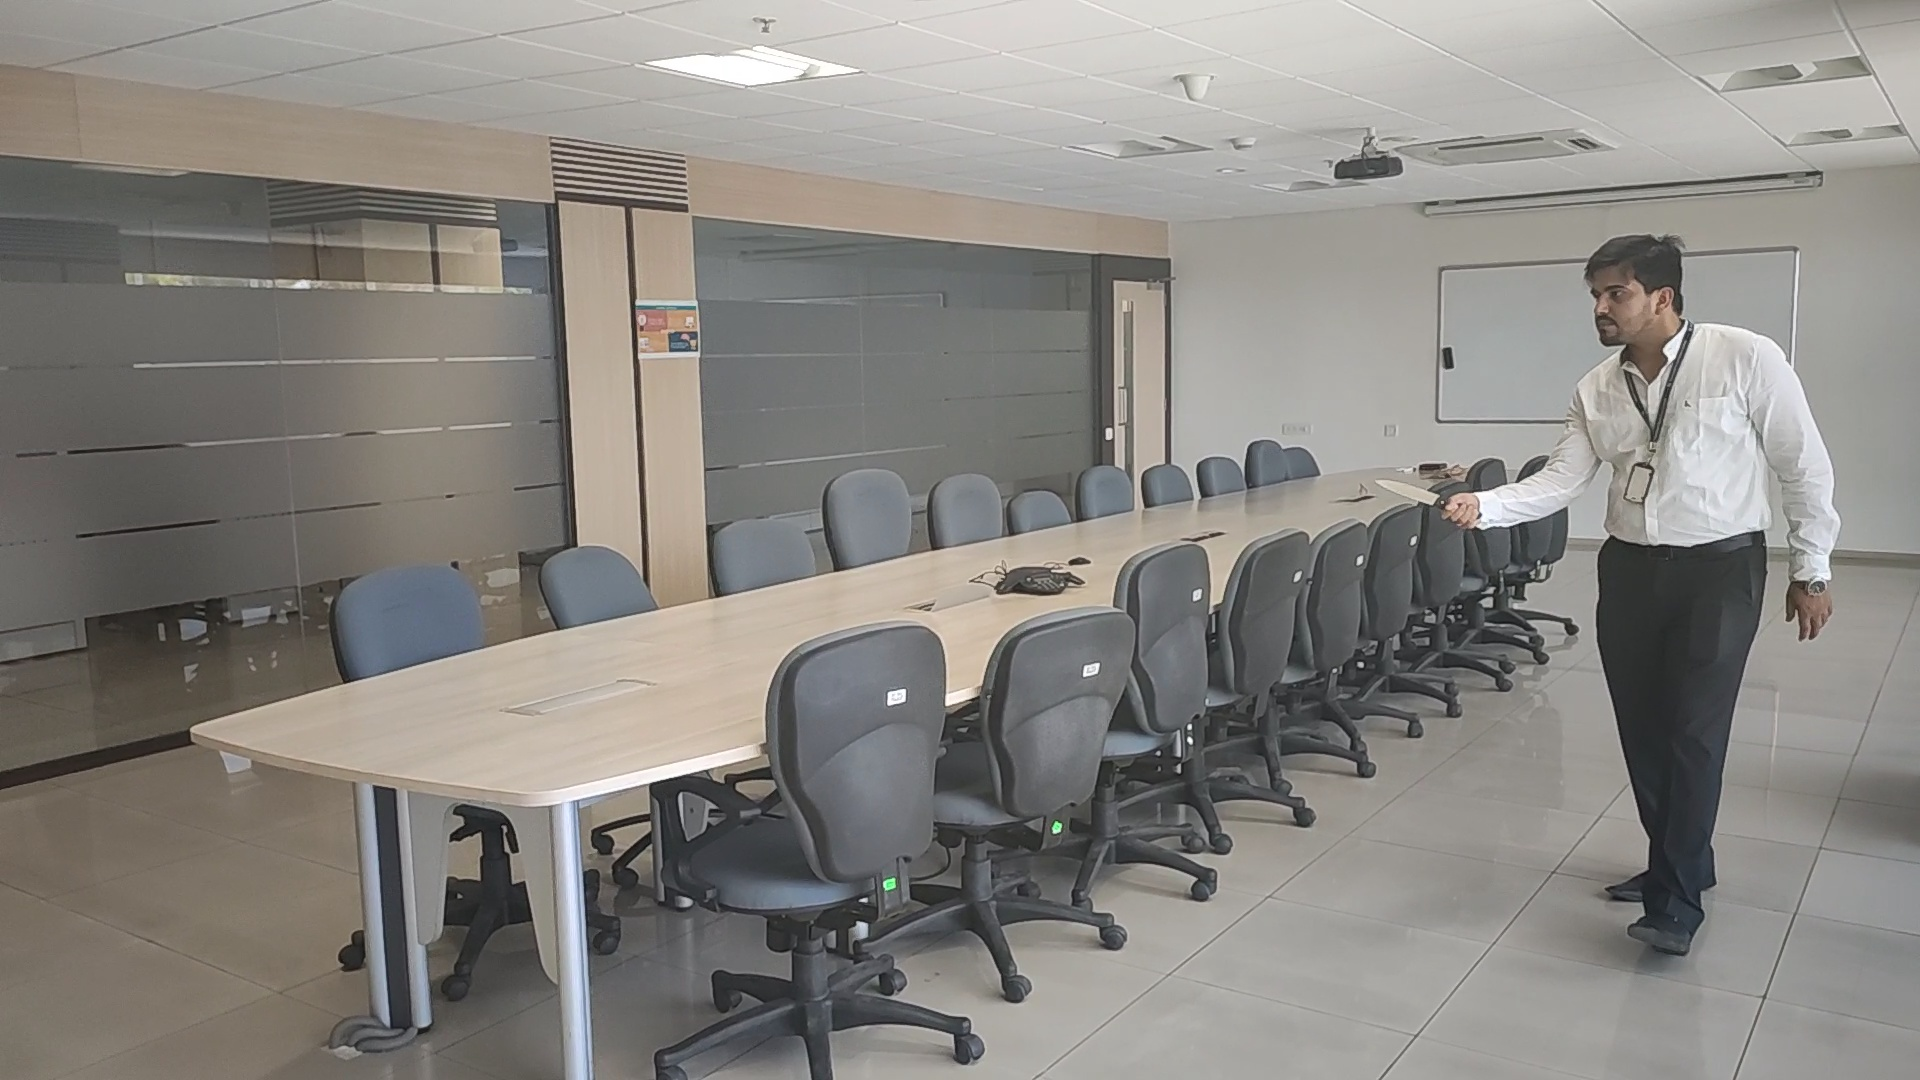knife: (1374, 477, 1443, 508)
